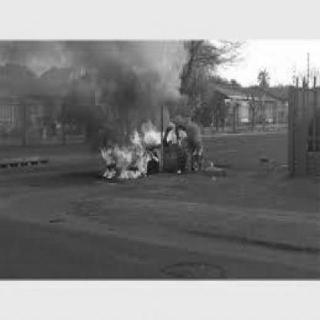Fire: (88, 105, 204, 182)
Smoke: (45, 40, 213, 143)
